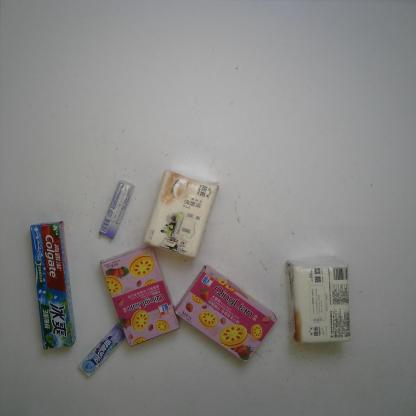Candy: (76, 320, 126, 380), (97, 178, 135, 240)
Dessert: (174, 263, 279, 365), (99, 243, 181, 349)
Personal Hygiene: (28, 219, 77, 352)
Tissue: (141, 168, 221, 259), (283, 253, 354, 347)
